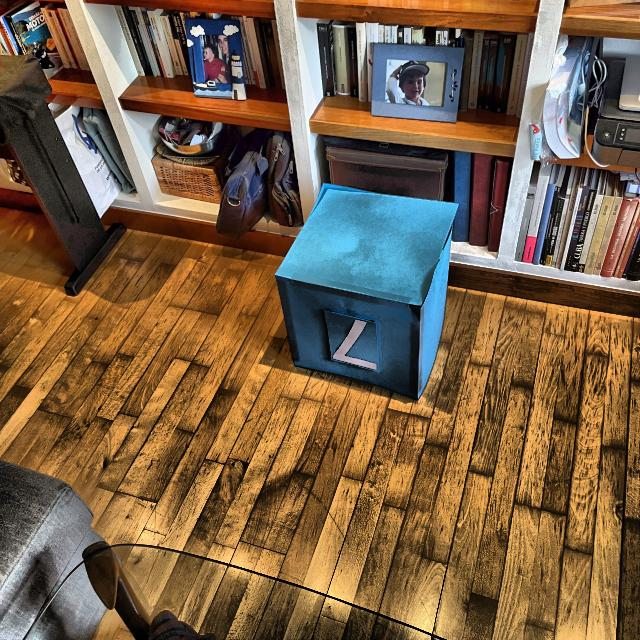blue box: (269, 181, 459, 406)
seven: (327, 316, 384, 374)
